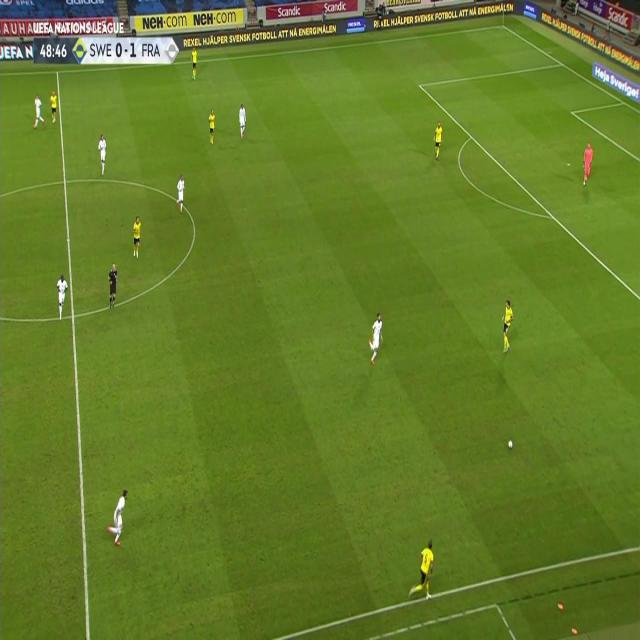ball: (508, 437, 514, 449)
player: (408, 538, 437, 602), (106, 488, 130, 548), (367, 311, 385, 367), (499, 299, 515, 353), (55, 272, 69, 321), (581, 140, 595, 187), (130, 213, 142, 259), (107, 260, 118, 310), (432, 118, 444, 161), (96, 133, 108, 175), (175, 173, 187, 214), (32, 93, 44, 128), (237, 102, 247, 140), (207, 107, 217, 145), (48, 90, 59, 124), (190, 44, 198, 80)
